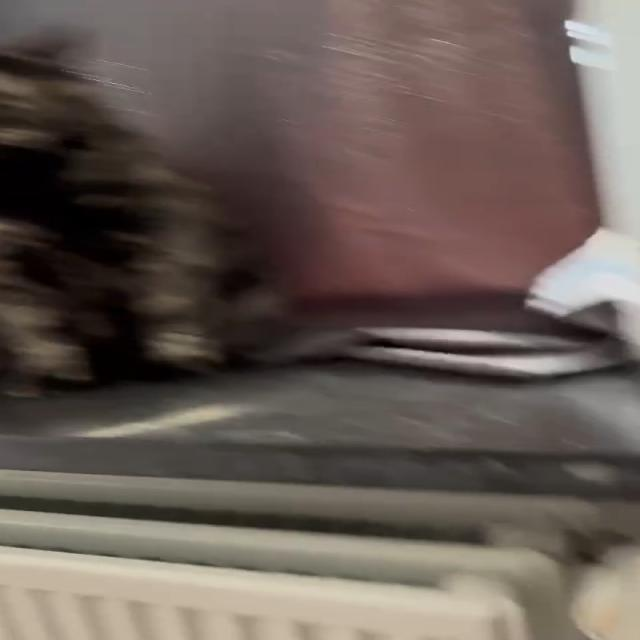authorized: (0, 30, 280, 399)
